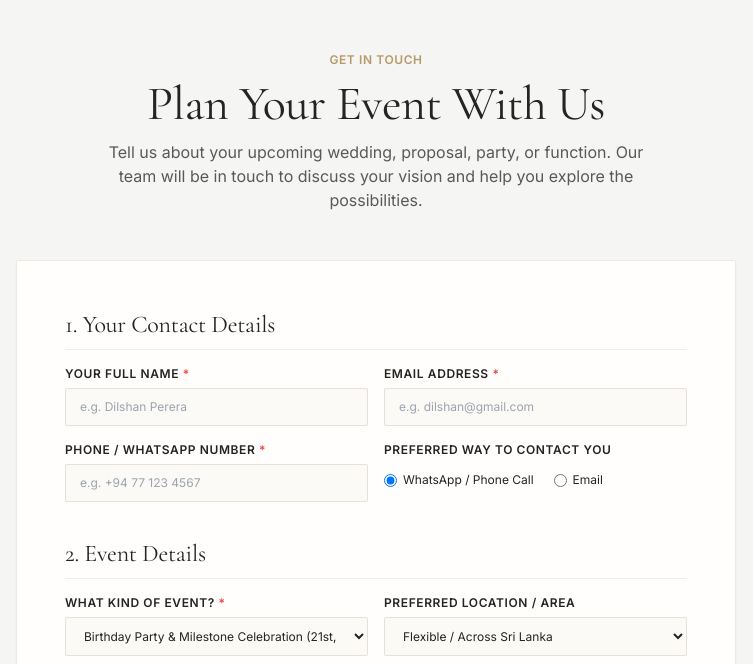
InquiryPage — Sri Lanka Client Form › submits valid inquiry and displays polished confirmation screen
Type "Dilshan Perera" into the field with placeholder "e.g. Dilshan Perera".
click(216, 407); type("Dilshan Perera")  # box [65,388,368,426]
Type "dilshan@gmail.com" into the field with placeholder "e.g. dilshan@gmail.com".
click(536, 407); type("dilshan@gmail.com")  # box [384,388,687,426]
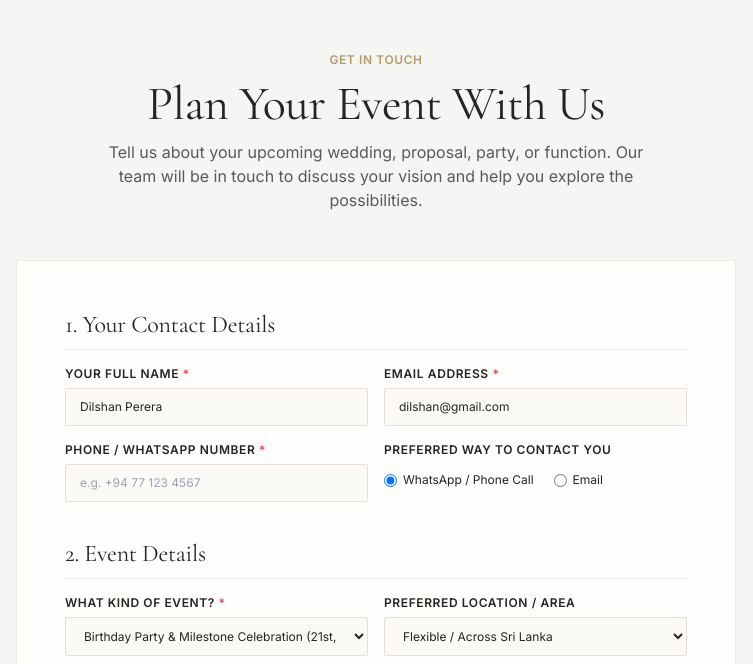
Type "+94 77 123 4567" into the field with placeholder "e.g. +94 77 123 4567".
click(216, 483); type("+94 77 123 4567")  # box [65,464,368,502]
(page scrolled)
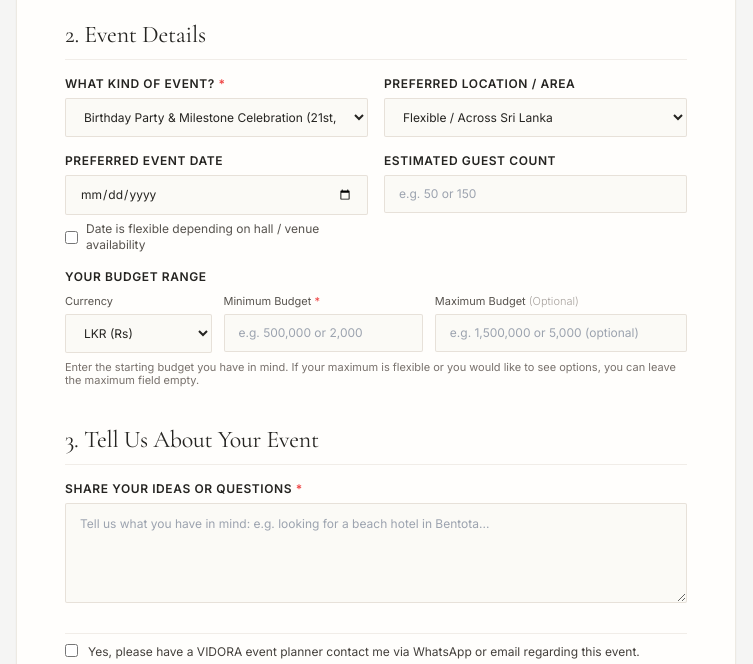
Type "1,500,000" into the field with placeholder "e.g. 500,000 or 2,000".
click(323, 332); type("1,500,000")  # box [224,314,423,352]
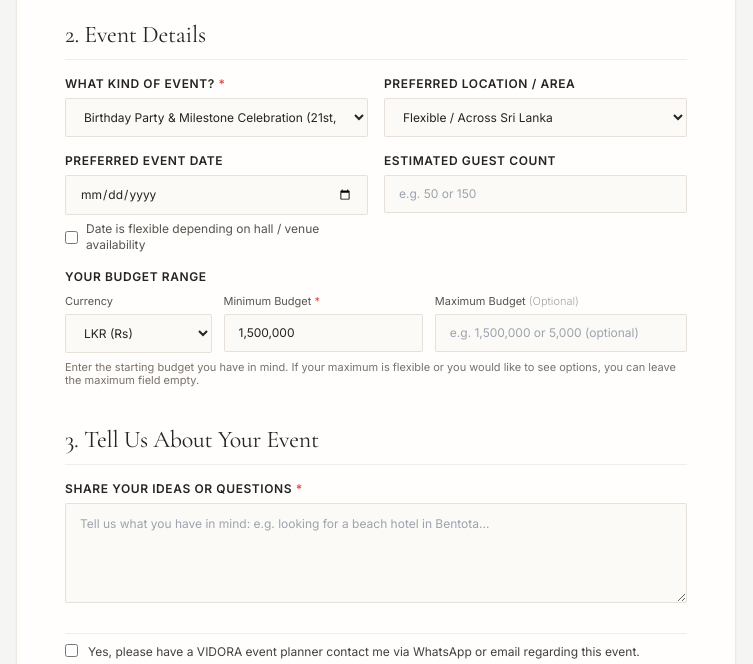
Replace the text in the text box with placeholder "Tell us what you have in mind" with "Looking for a beach hotel in Bentota for a 150-guest wedding and Poruwa ceremony." at (376,553), box [65,503,687,603]
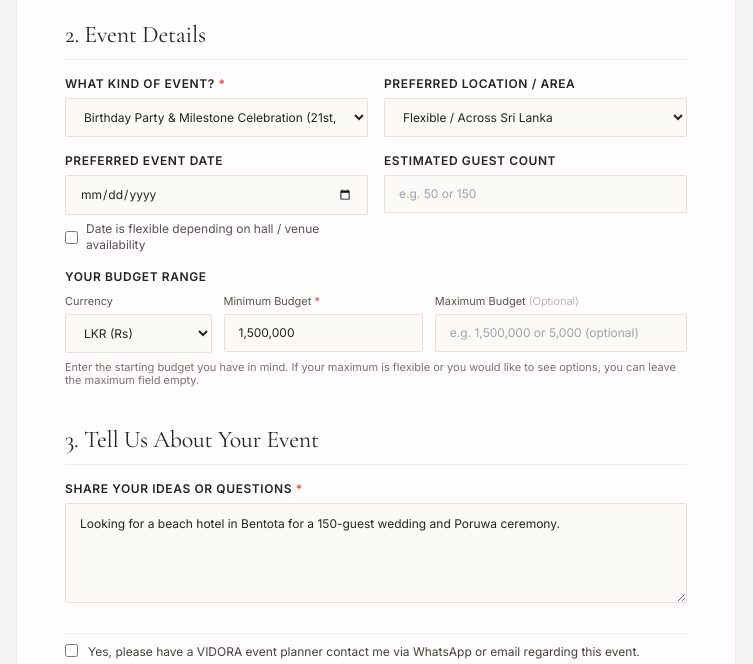
Click the checkbox labelled "Yes, please have a VIDORA event planner contact me".
click(72, 650)  # box [65,644,78,657]
(page scrolled)
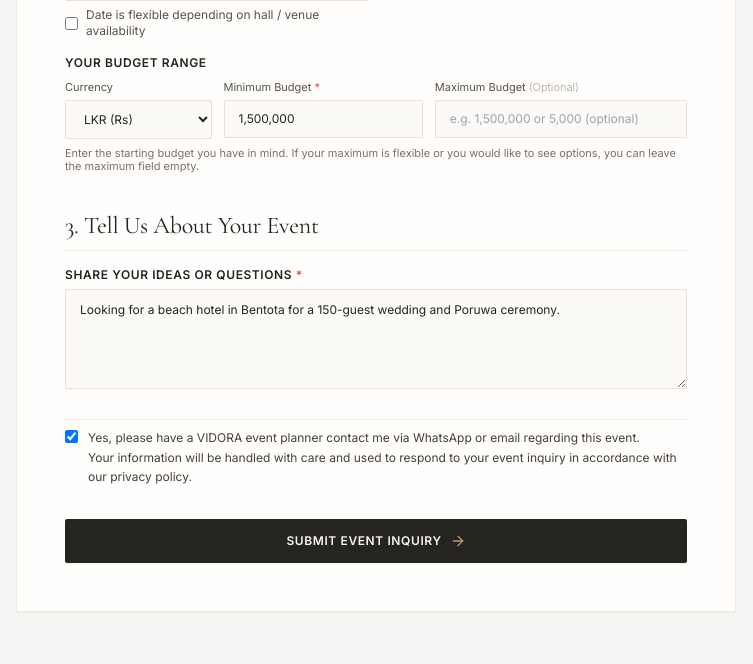
Click the button "Submit Event Inquiry".
click(376, 540)  # box [65,518,687,562]
(page scrolled)
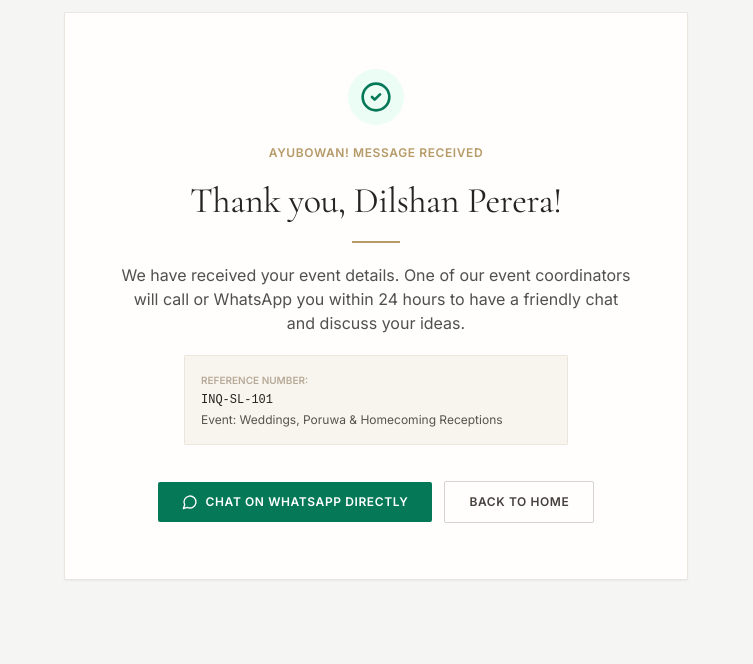
Expected: the heading "Thank you, Dilshan Perera!" is shown, [190,179,562,222]
Expected: the text "INQ-SL-101" is shown, [201,393,273,407]
